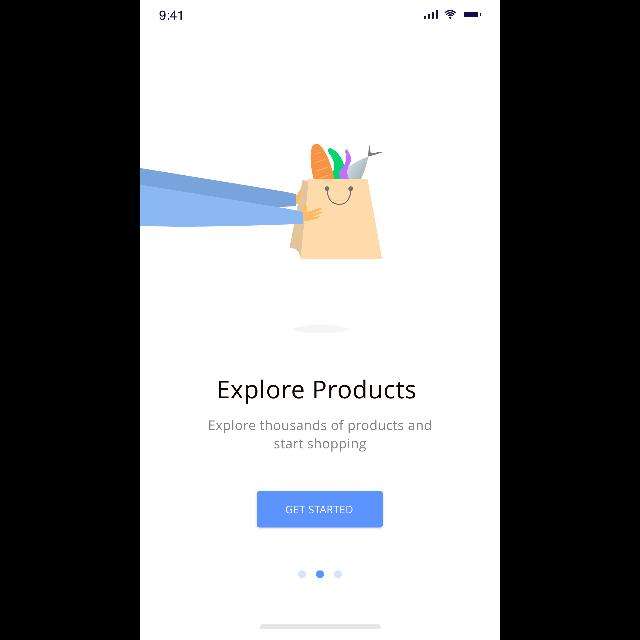image: (140, 144, 384, 260)
pageindicator: (298, 570, 342, 578)
text: (208, 419, 432, 453), (218, 378, 418, 406)
textbutton: (256, 490, 384, 528)
uppertaskbar: (159, 10, 481, 20)
